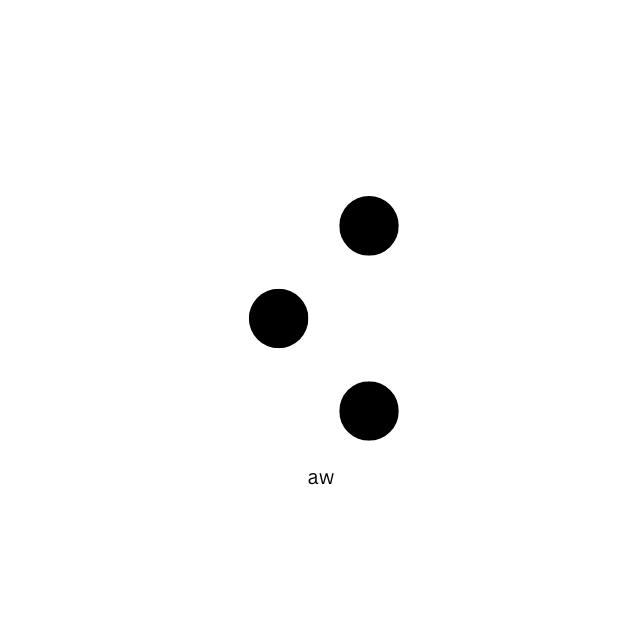one_cell_part_word_aw: (248, 195, 400, 442)
